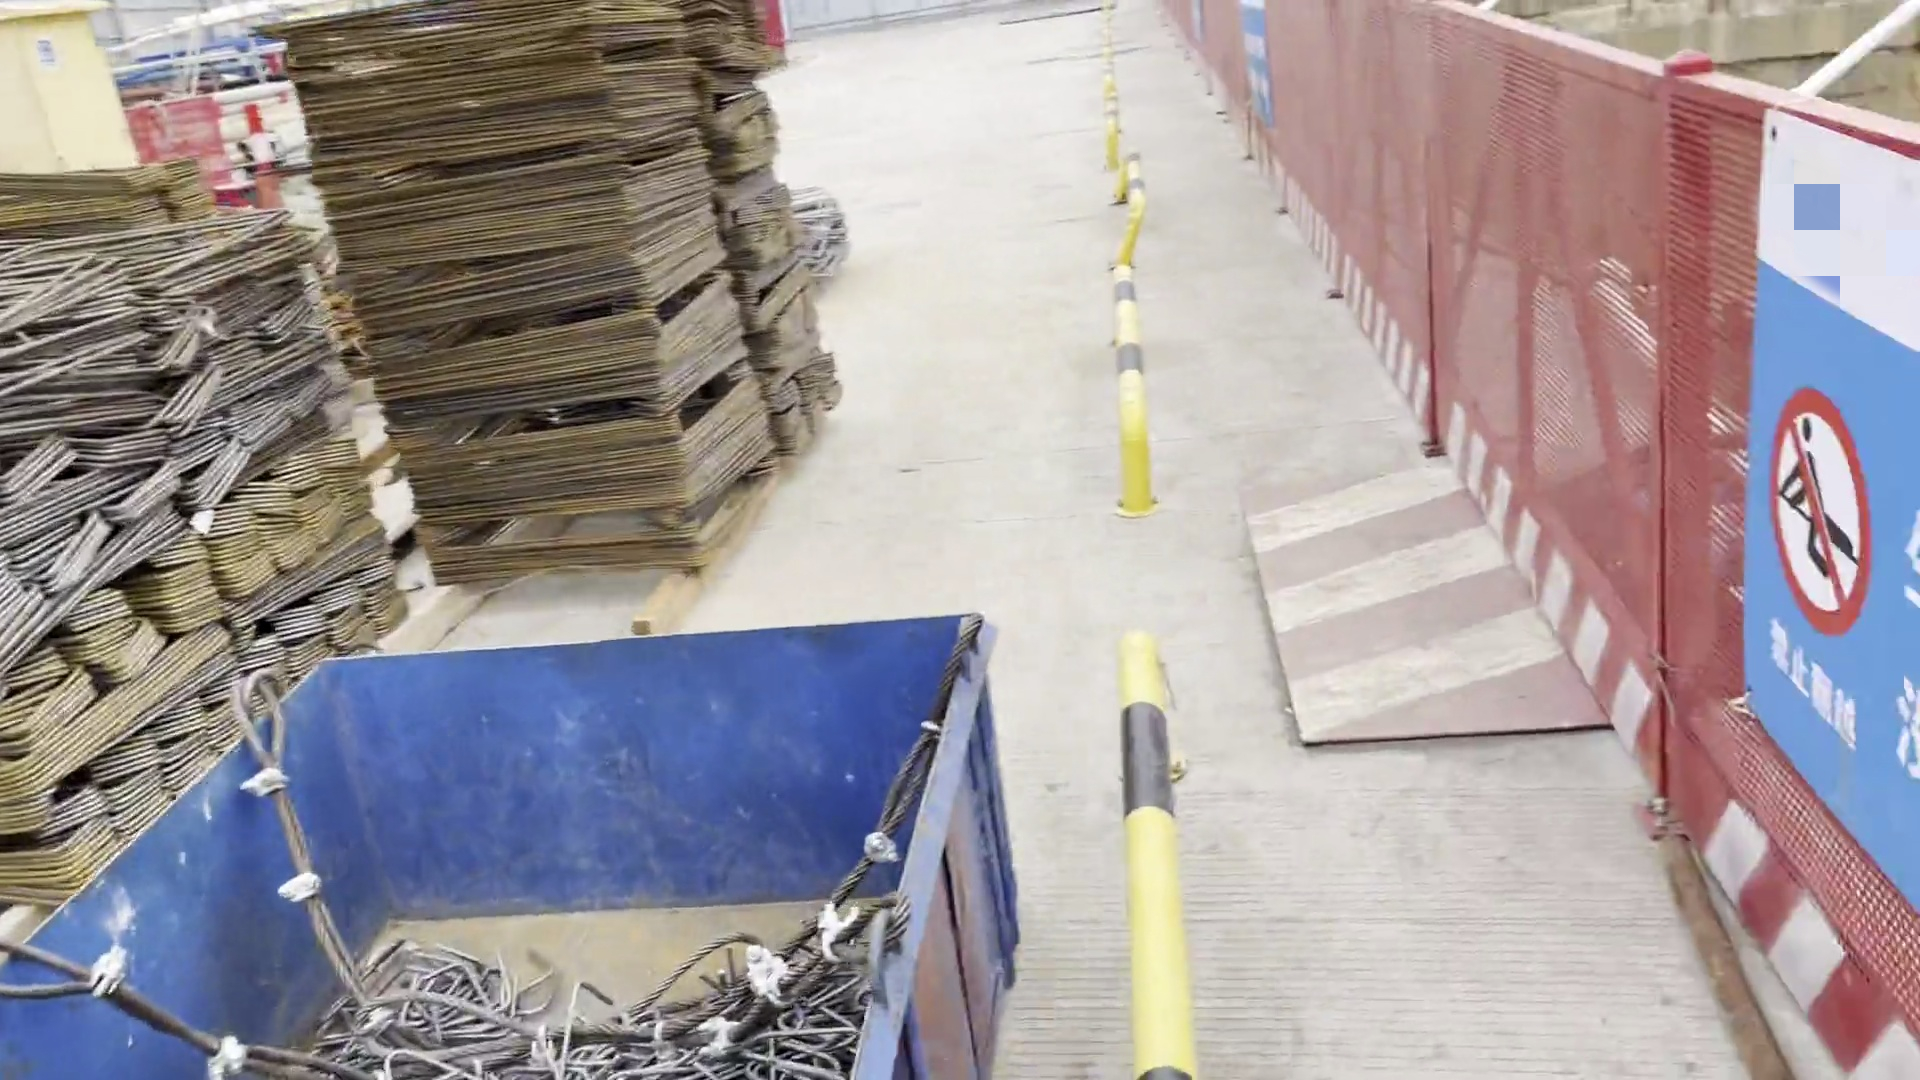ebox: (1, 7, 161, 173)
fence: (1465, 95, 1920, 1080), (1164, 4, 1782, 458)
hopper: (3, 605, 1054, 1080)
slogan: (1745, 91, 1920, 939), (1226, 1, 1284, 135)
